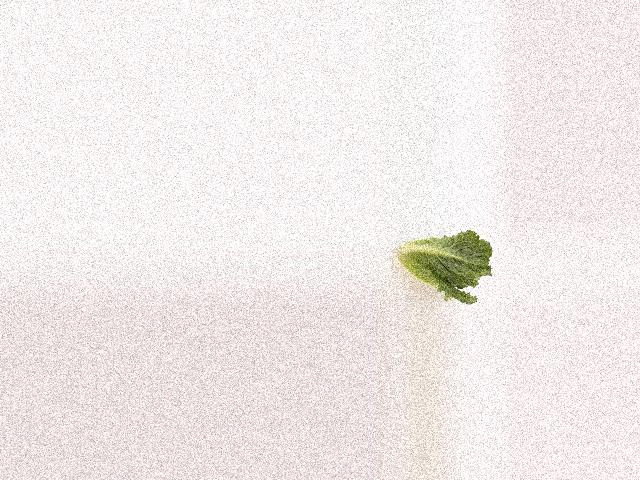lettuce: (386, 228, 495, 300)
